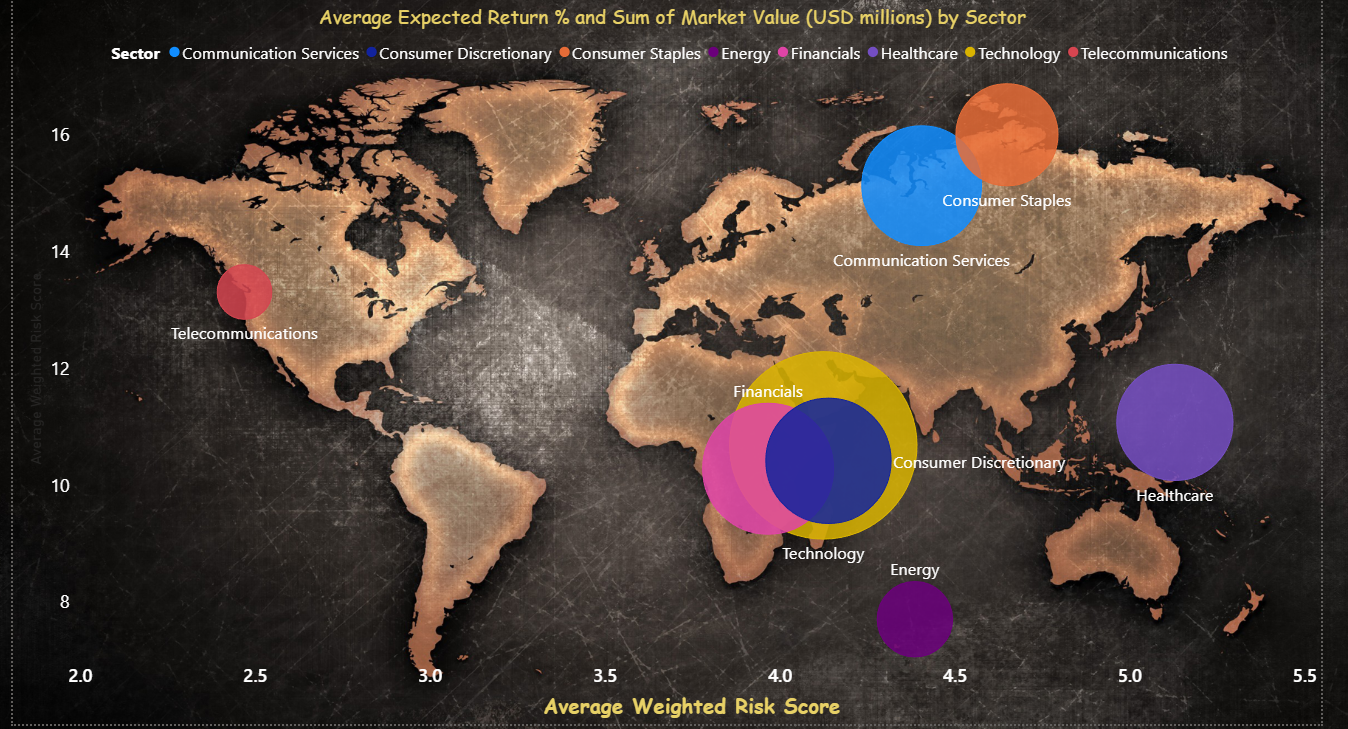

The page's visual inventory and layout, read from the dashboard file:
{"tool":"powerbi","page":{"name":"Page 4","canvas":[1280,720],"ordinal":1},"visuals":[{"type":"scatterChart","title":" Average Expected Return % and Sum of Market Value (USD millions) by Sector","fields":{"X":["Holdings.Average Weighted Risk Score"],"Y":["Holdings.Average Expected Return %"],"Size":["Sum(Holdings.Market Value (USD millions))"],"Series":["Holdings.Sector"]},"box":[9.6,15.1,1270.7,705.3],"z":0}]}

Visuals, with their boxes on the page's 1280x720 design canvas (x1, y1, x2, y2). These are canvas units, not pixel positions in the 1348x729 screenshot, which may show the page scaled, cropped or inside an application window:
" Average Expected Return % and Sum of Market Value (USD millions) by Sector" scatterChart: [left=10, top=15, right=1280, bottom=720]
